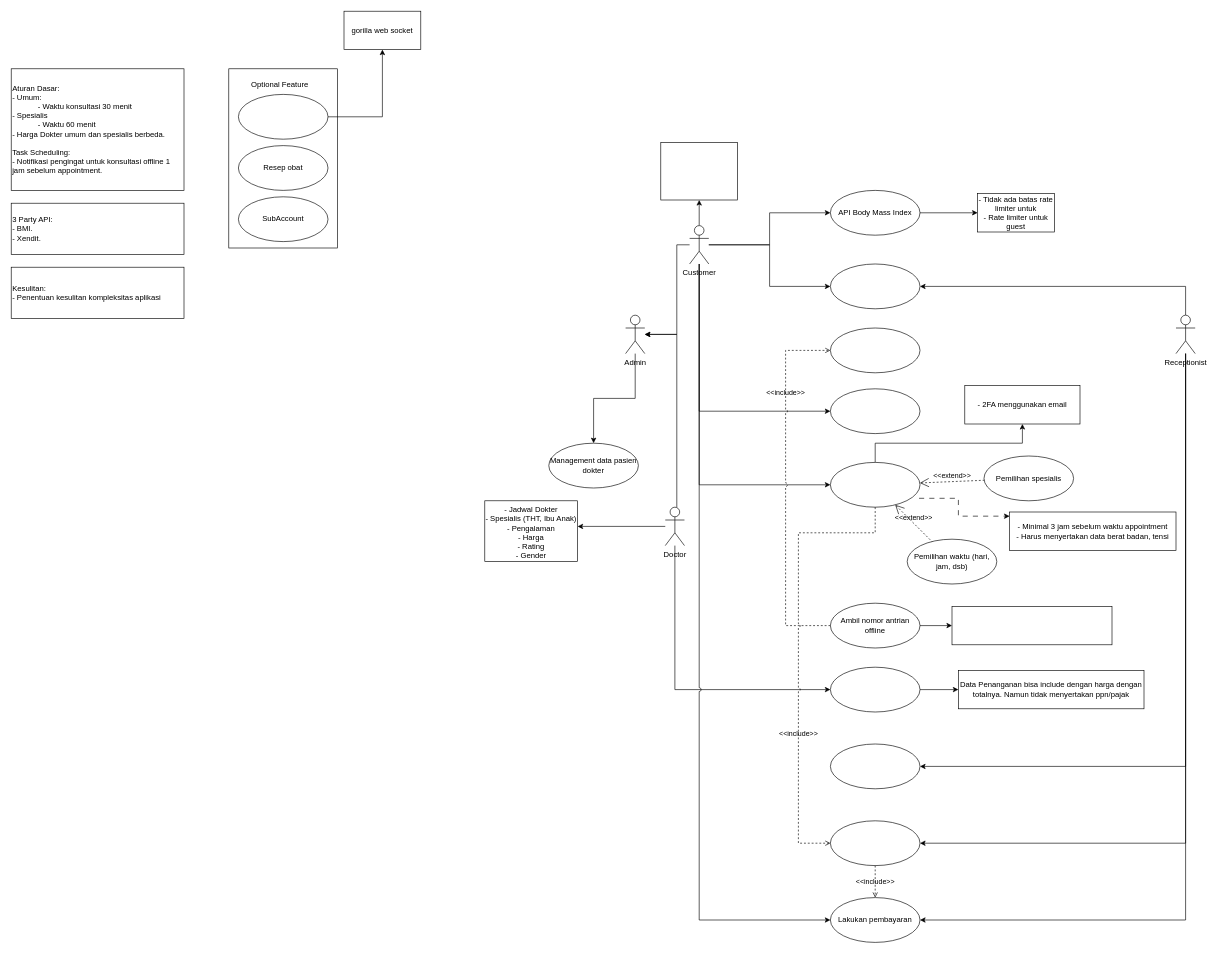
The diagram is 1218 pixels wide and 954 high, and some of its shapes have lost their labels. Each missing label, with the box of its shape:
- Nama - Gender - Tinggi Badan - Berat badan - Golongan Darah: (660, 142, 738, 200)
Buat appointment: (830, 462, 920, 507)
Chat dengan dokter: (238, 94, 328, 139)
Datang ke apotik. Didaftarkan oleh resepsionis terlebih dahulu.: (951, 606, 1112, 645)
Input data patient: (830, 743, 920, 789)
Lihat Data Dokter: (830, 388, 920, 434)
Login: (830, 327, 920, 373)
Manage Data Konsutasi Resep Obat: (830, 667, 920, 712)
Register Patient: (830, 263, 920, 309)
Terbit tagihan: (830, 820, 920, 866)
